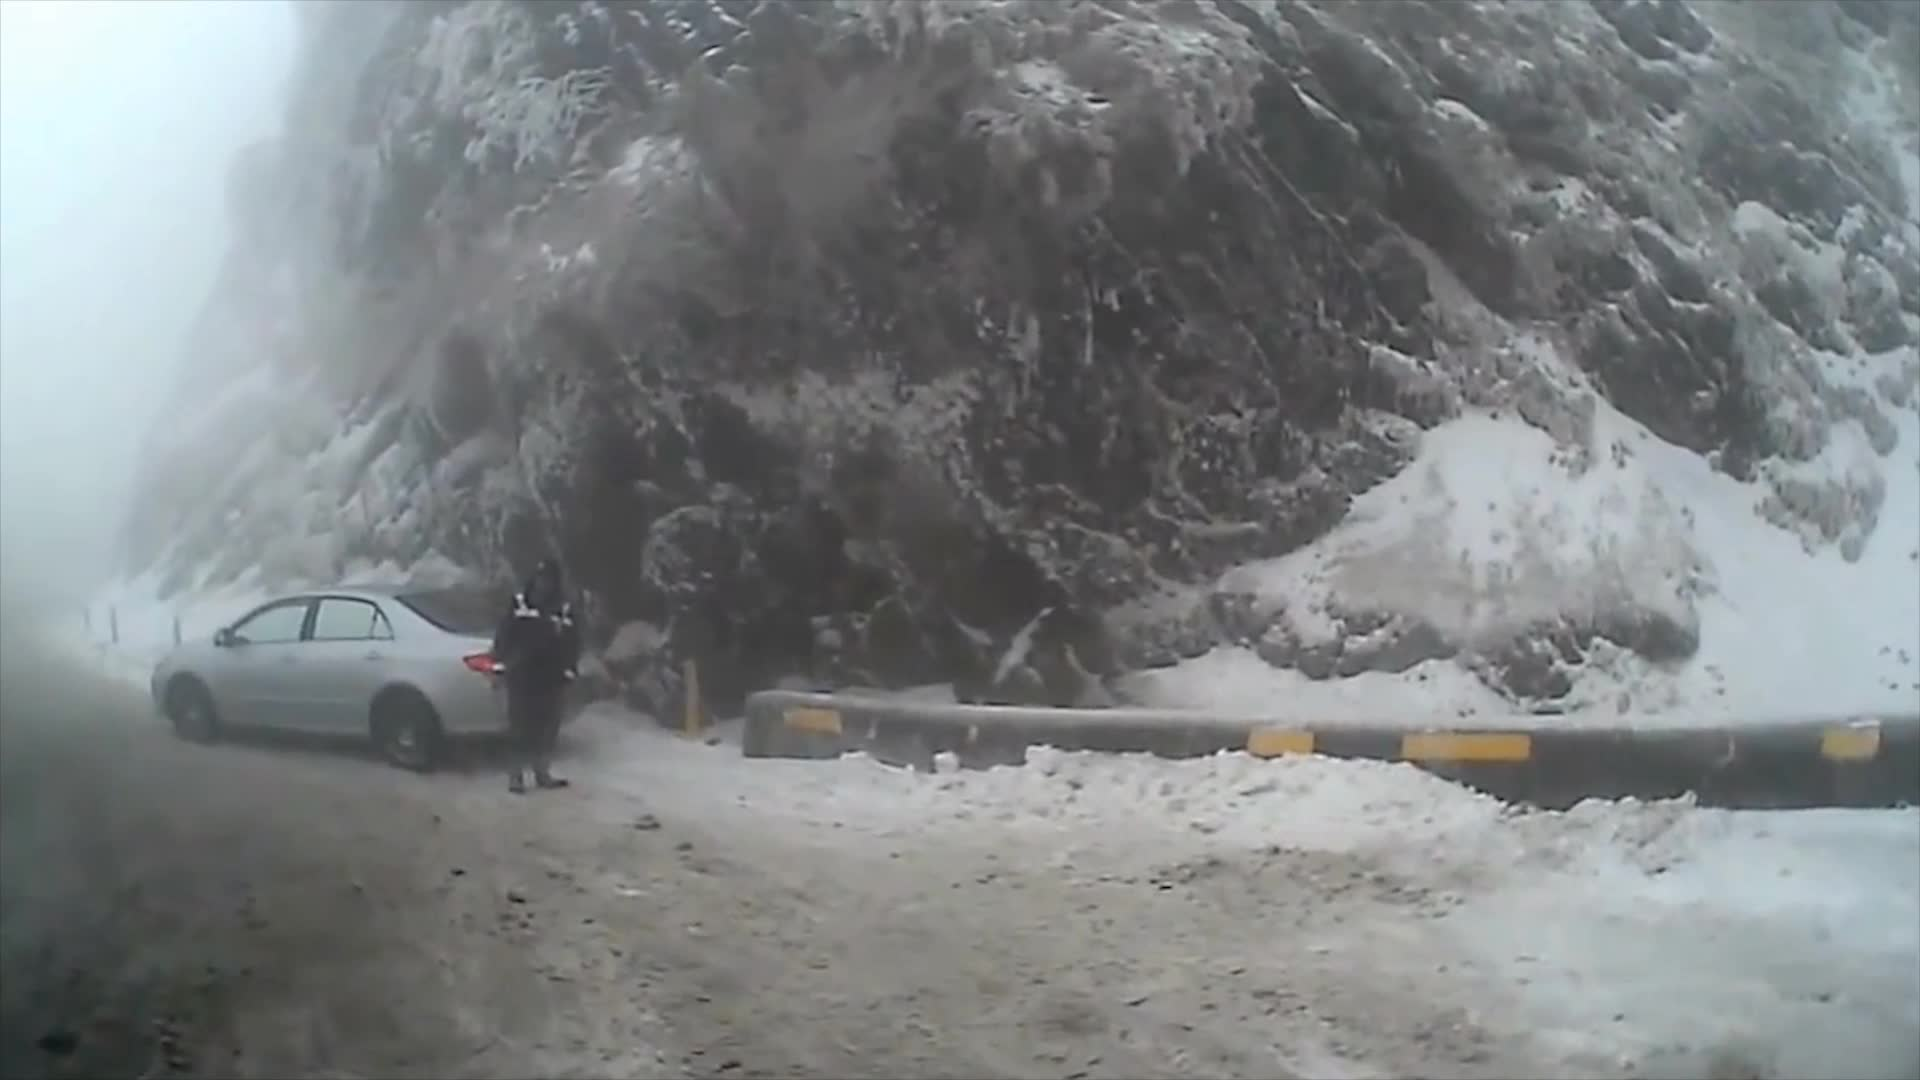pedestrian: (500, 554, 583, 790)
vehicle: (149, 579, 590, 773)
